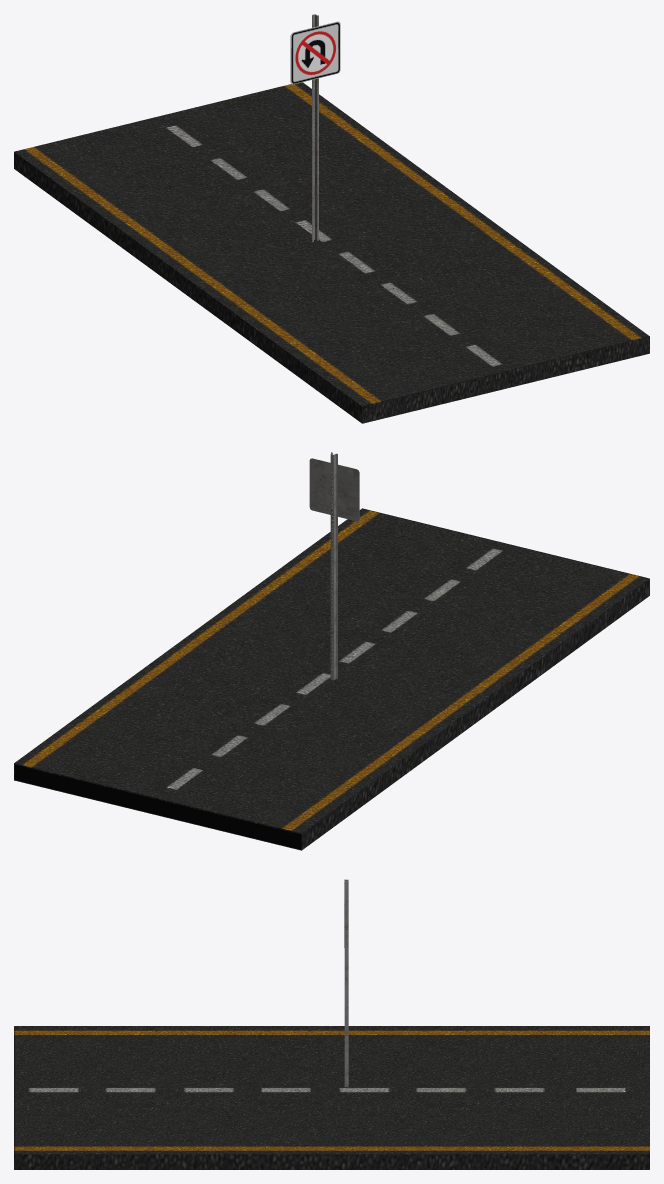
Rendered from nouturnsignboard.glb.
The picture shows the model from 3 angles, top to bottom: view 1: azimuth 30°, elevation 25°; view 2: azimuth 150°, elevation 25°; view 3: azimuth 270°, elevation 25°; orthographic projection. The views are drawn at different scales.
Parts seen in each view (by area): view 1: road.003, Object_42; view 2: road.003, Object_42; view 3: road.003, Object_42.
Part boxes in pixels (bbox=[...]): road.003: bbox=[14, 82, 649, 423]; Object_42: bbox=[290, 14, 340, 241]; road.003: bbox=[14, 508, 649, 850]; Object_42: bbox=[309, 452, 359, 680]; road.003: bbox=[14, 1026, 649, 1169]; Object_42: bbox=[344, 879, 348, 1086].
Bounding box in the file's own units: 4.16 × 3.35 × 8.73.
2 materials, 2 textured.
